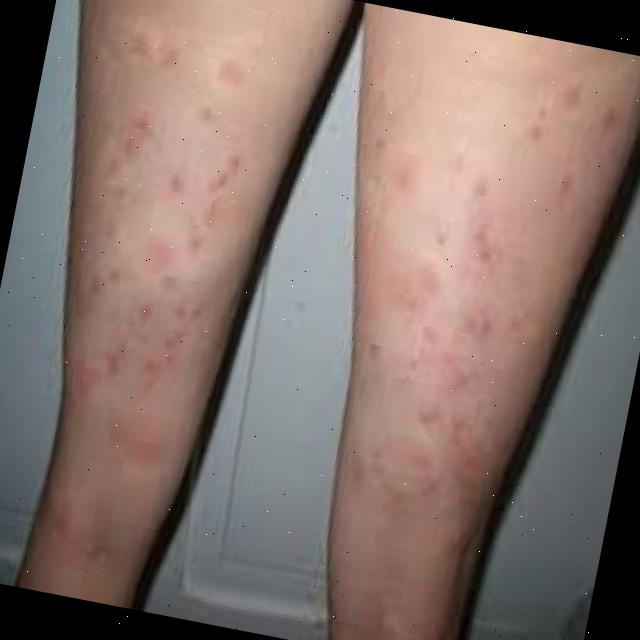kan emici bocekler: (385, 253, 441, 338), (196, 51, 251, 114), (133, 235, 171, 282), (554, 77, 585, 120)
